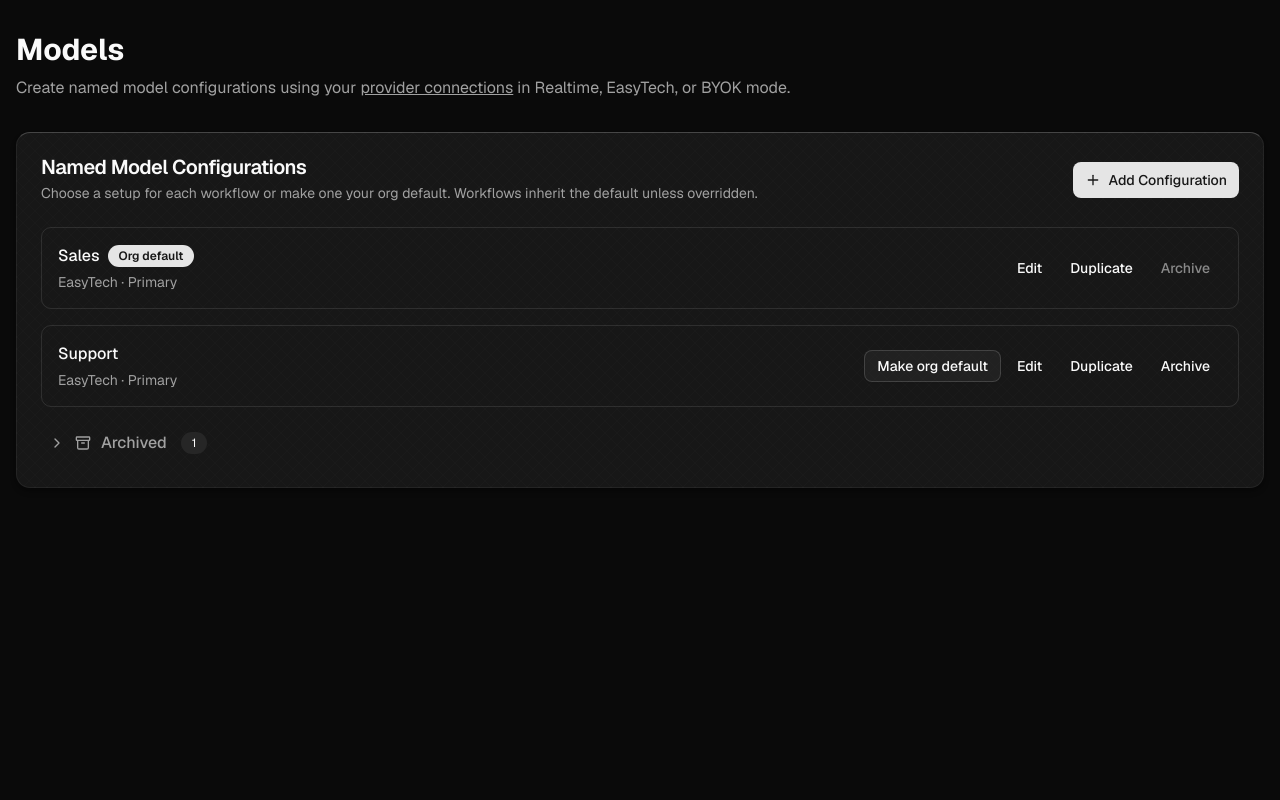
provider connection and model configuration lists › shows collapsed archived models and restores them to the active list
This screenshot has width=1280, height=800.
Expected: the text "Archived item" is not shown
Click the button with aria-label "Toggle Archived".
click(134, 442)  # box [41,423,1239,463]
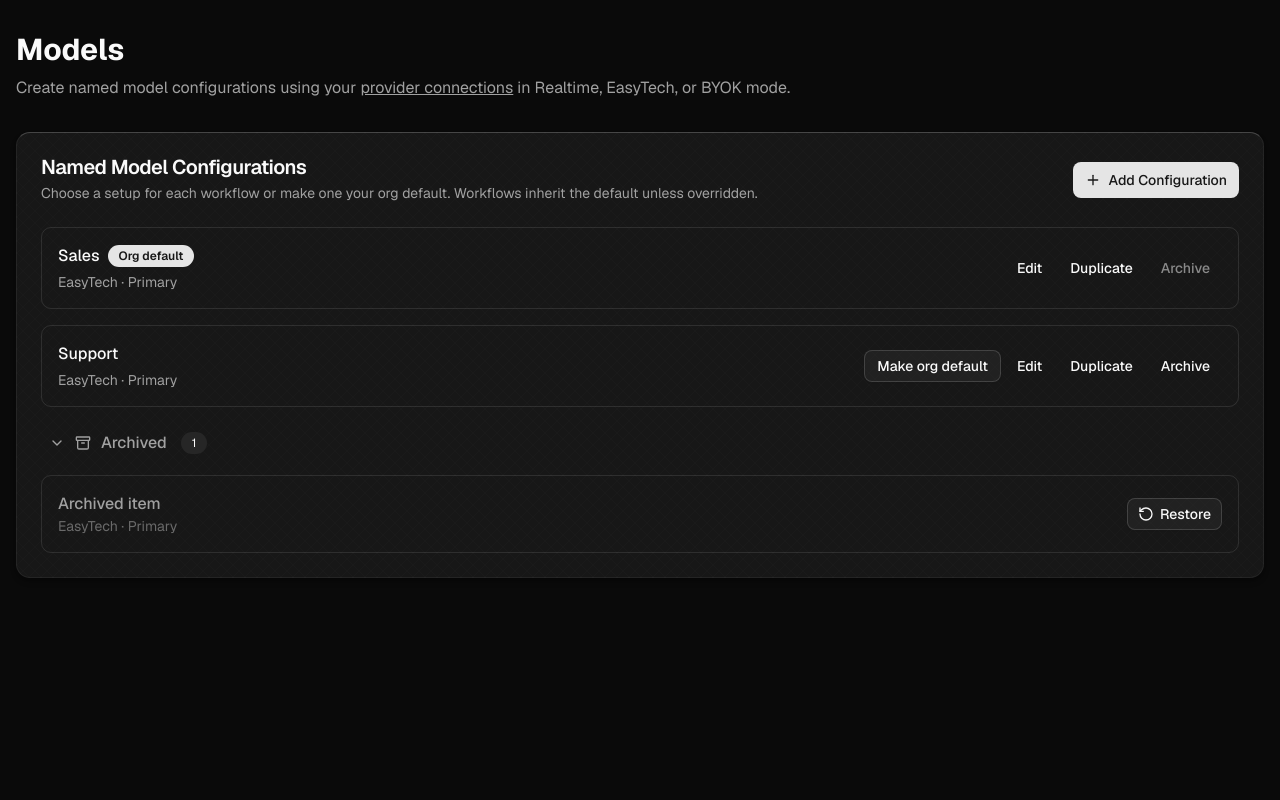
Expected: the number of links "Edit" is 2, [1017,259,1042,277]; [1017,357,1042,375]
Expected: the heading "Archived item" is shown, [58,493,161,514]
Click the button "Restore".
click(1174, 514)  # box [1127,498,1222,530]
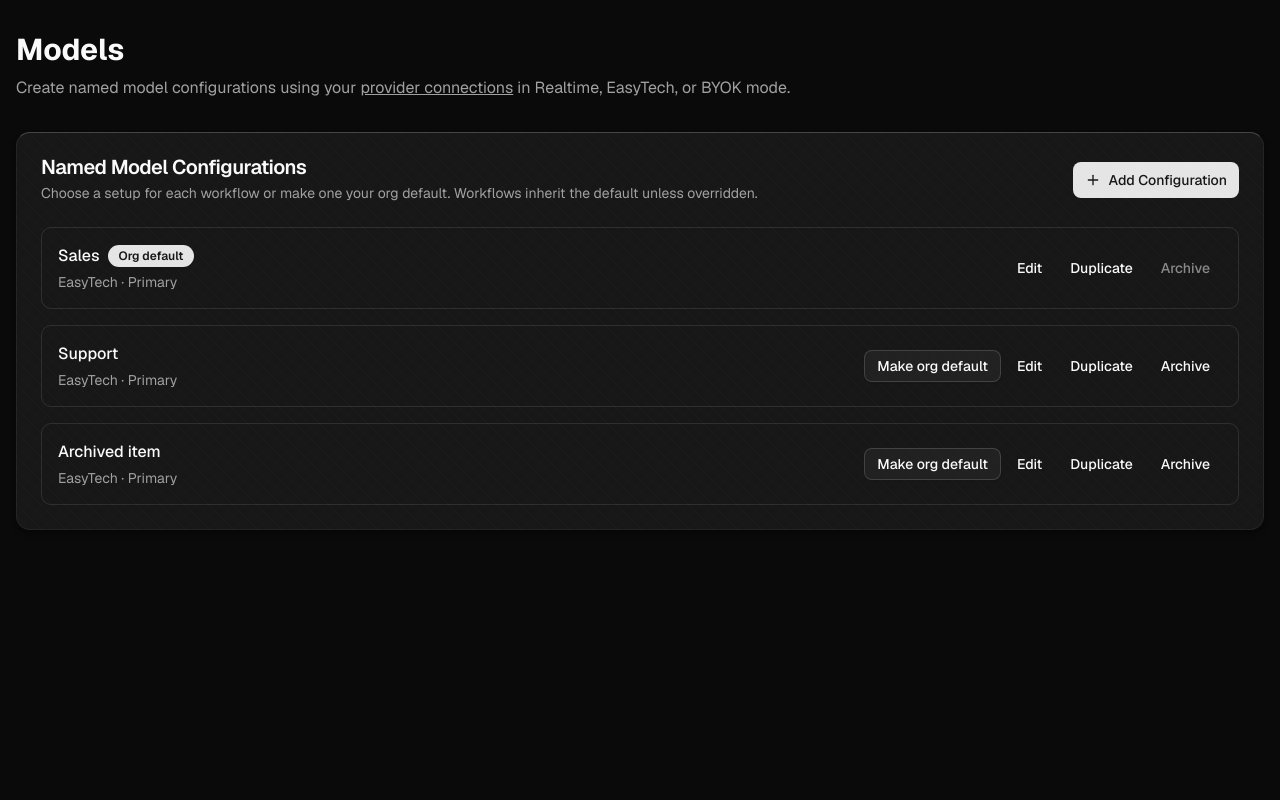
Expected: the link "Archived item" is shown, [58,440,161,464]
Expected: the number of links "Edit" is 3, [1017,259,1042,277]; [1017,357,1042,375]; [1017,455,1042,473]
